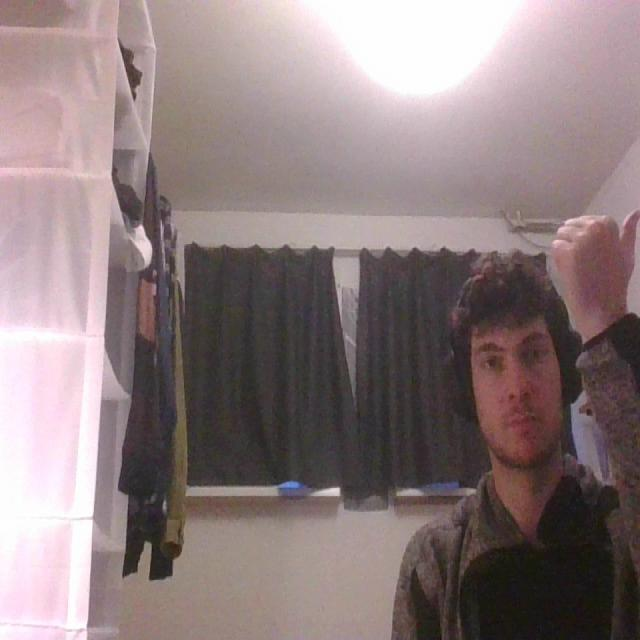right: (543, 190, 639, 330)
